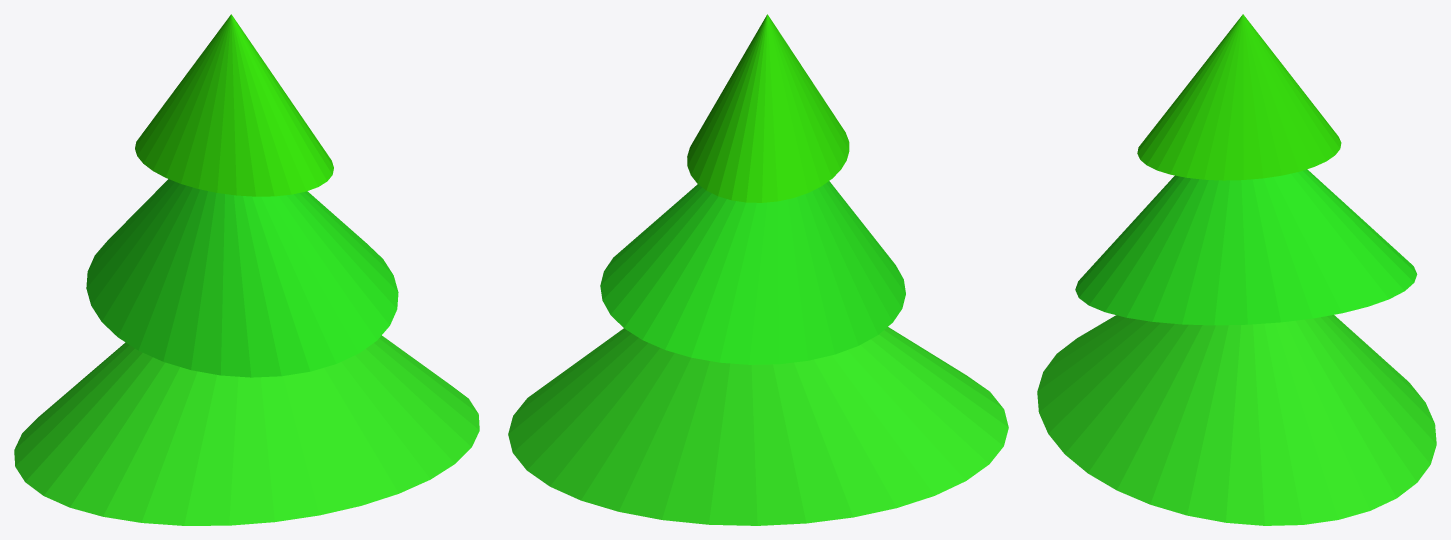
File: pine-tree.glb
3 views of the same model, side by side, from view 1: azimuth 30°, elevation 25°; view 2: azimuth 150°, elevation 25°; view 3: azimuth 270°, elevation 25° (orthographic). The views are drawn at different scales.
Parts seen in each view (by area): view 1: Cone, Cone.001, Cone.004; view 2: Cone, Cone.001, Cone.004; view 3: Cone, Cone.001, Cone.004.
Part boxes in pixels (left/top/right/bottom): Cone: left=14, top=335, right=479, bottom=525; Cone.001: left=86, top=179, right=398, bottom=377; Cone.004: left=135, top=14, right=333, bottom=196; Cone: left=508, top=327, right=1008, bottom=525; Cone.001: left=600, top=181, right=905, bottom=364; Cone.004: left=687, top=14, right=849, bottom=202; Cone: left=1037, top=315, right=1436, bottom=525; Cone.001: left=1075, top=169, right=1417, bottom=325; Cone.004: left=1137, top=14, right=1341, bottom=180.
Bounding box in the file's own units: 2.79 × 2.99 × 2.36.
